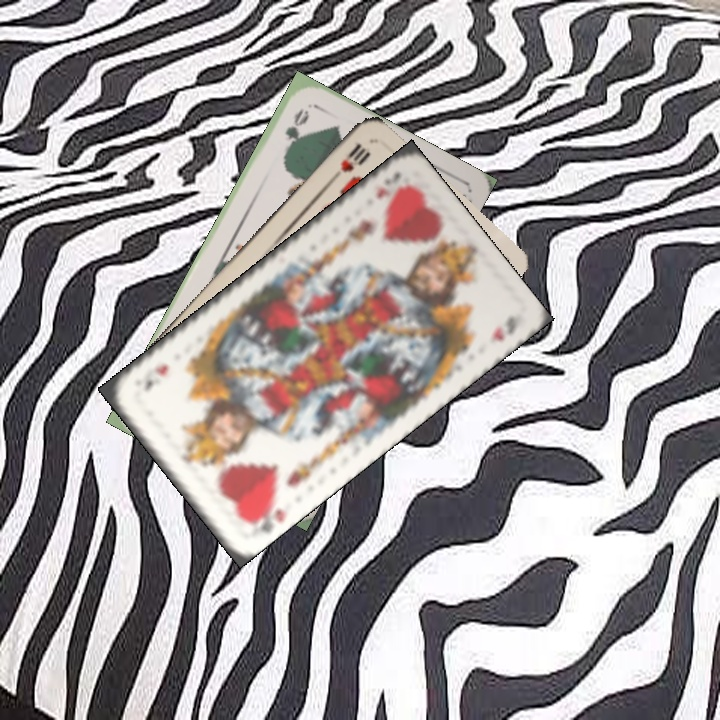GO: (280, 105, 312, 159)
H10: (326, 139, 373, 186)
HK: (242, 494, 288, 535), (372, 166, 404, 201)
